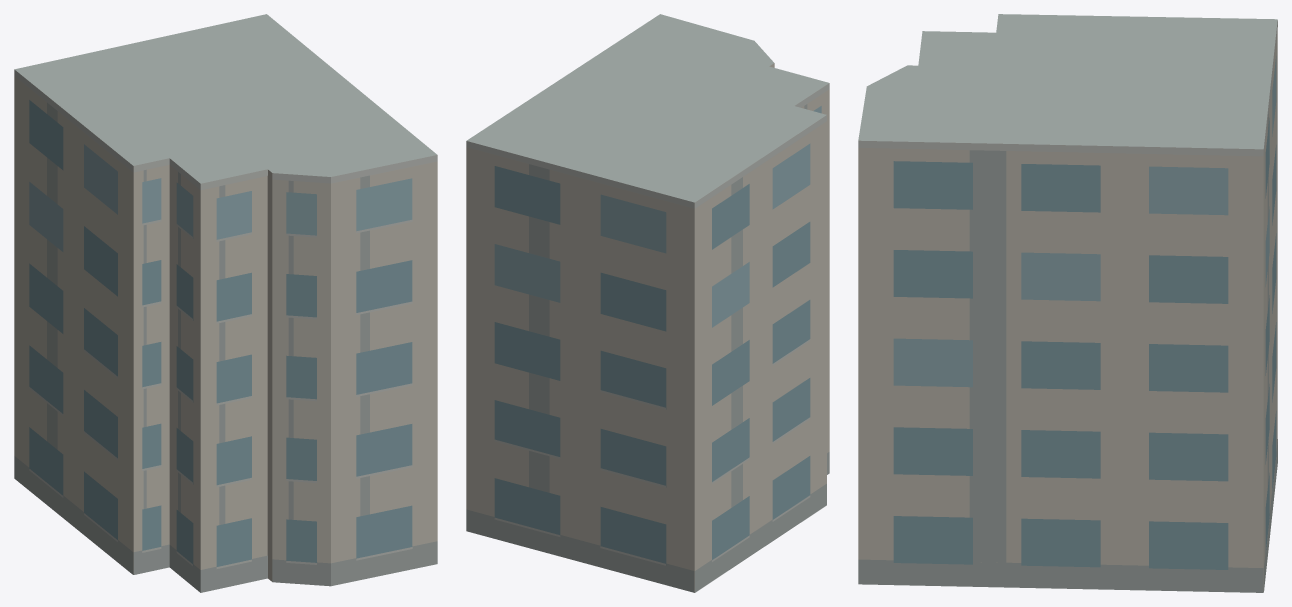
File: survey-upis-32736561.glb
The picture shows the model from 3 angles, left to right: view 1: azimuth 30°, elevation 25°; view 2: azimuth 150°, elevation 25°; view 3: azimuth 270°, elevation 25°; orthographic projection. The views are drawn at different scales.
Visible parts, largest first — view 1: survey-upis-32736561.tmp; view 2: survey-upis-32736561.tmp; view 3: survey-upis-32736561.tmp.
Part boxes in pixels (left/top/right/bottom): survey-upis-32736561.tmp: left=14, top=14, right=437, bottom=592; survey-upis-32736561.tmp: left=466, top=14, right=829, bottom=592; survey-upis-32736561.tmp: left=858, top=14, right=1277, bottom=592.
Bounding box in the file's own units: 9.99 × 15.25 × 13.08.
